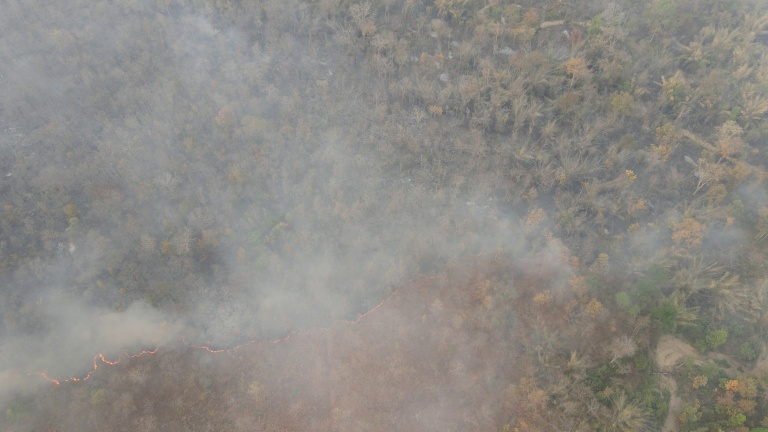fire: (176, 279, 406, 363), (5, 337, 163, 397)
smoke: (2, 1, 559, 432), (559, 176, 768, 290)
